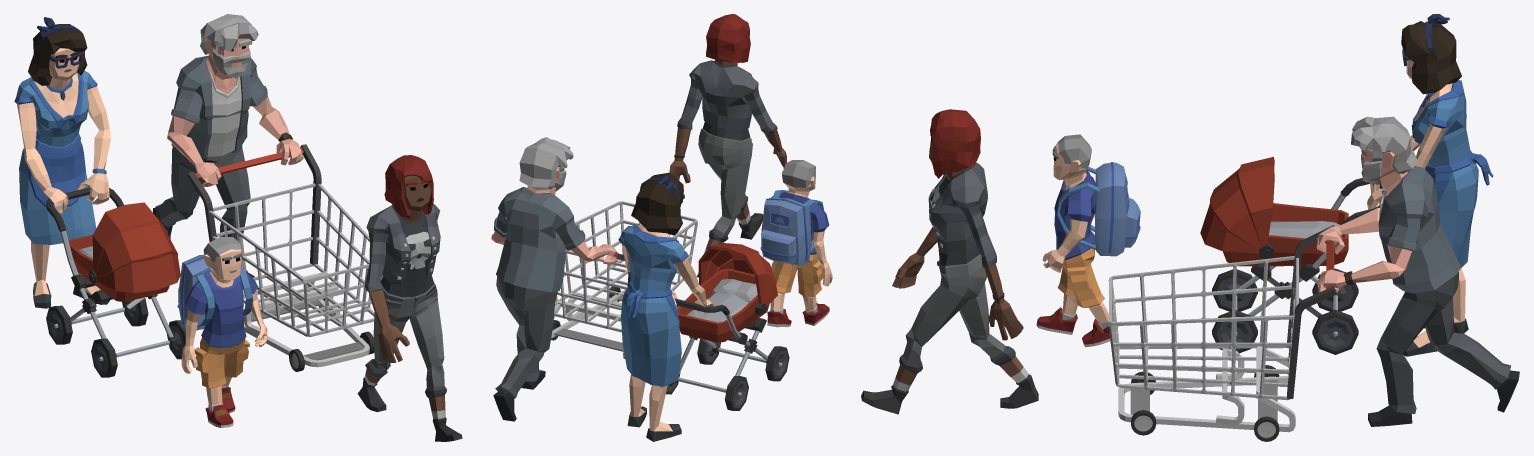
The model's file is 4persons_walking.glb.
The picture shows the model from 3 angles, left to right: view 1: azimuth 30°, elevation 25°; view 2: azimuth 150°, elevation 25°; view 3: azimuth 270°, elevation 25°; orthographic projection. The views are drawn at different scales.
Parts seen in each view (by area): view 1: Character_9; view 2: Character_9; view 3: Character_9.
Part boxes in pixels (left/top/right/bottom): Character_9: left=14, top=14, right=462, bottom=441; Character_9: left=491, top=14, right=832, bottom=441; Character_9: left=861, top=14, right=1519, bottom=441.
Size of the model in its own units: 1.71 by 1.85 by 3.48.
1 material, 1 textured.
